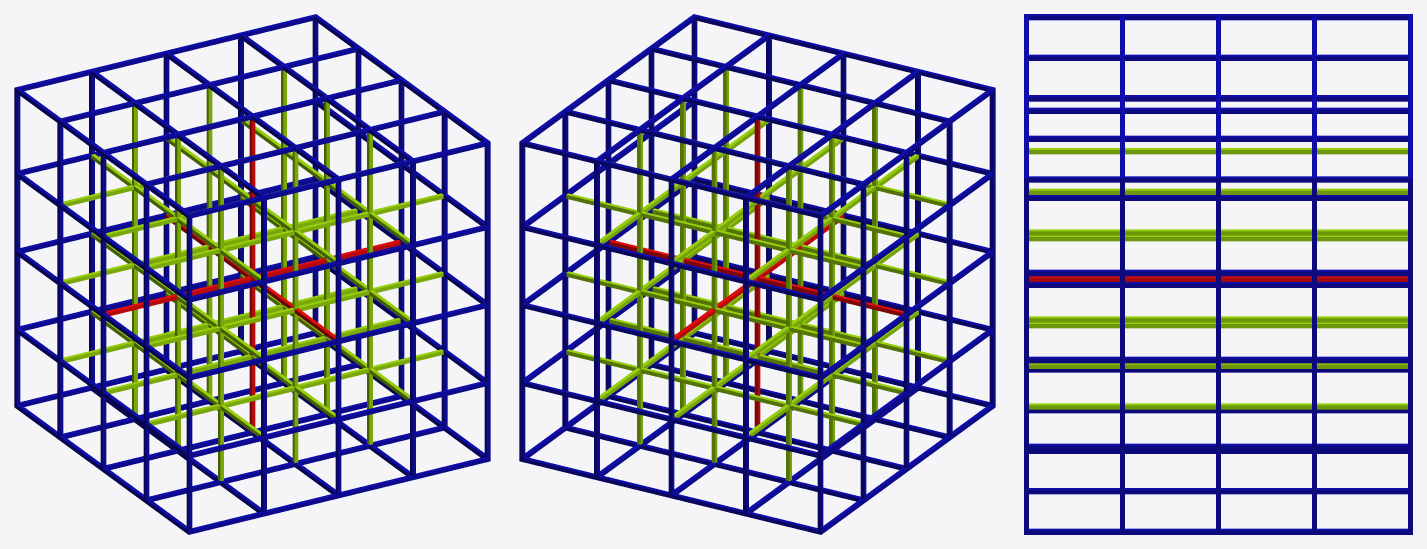
Rendered from cubo_4x4x4.FBX.
3 renders of one model, left to right at view 1: azimuth 30°, elevation 25°; view 2: azimuth 150°, elevation 25°; view 3: azimuth 270°, elevation 25°, orthographic. The views are drawn at different scales.
Visible parts, largest first — view 1: Box032, Box033, Box040, Box047, Box045, Box001, Box046, Box035, Box034, Box038, Box037, Box007 (+60 smaller); view 2: Box001, Box005, Box047, Box032, Box046, Box012, Box045, Box007, Box006, Box010, Box009, Box008 (+60 smaller); view 3: Box057, Box058, Box059, Box080, Box072, Box076, Box044, Box048, Box049, Box050, Box053, Box054 (+23 smaller).
Boxes of the visible parts, x1,y1,x2,y2 form: Box032: [186, 218, 192, 530]; Box033: [484, 145, 490, 458]; Box040: [335, 182, 341, 494]; Box047: [143, 186, 149, 499]; Box045: [57, 123, 63, 436]; Box001: [14, 92, 20, 404]; Box046: [100, 155, 106, 467]; Box035: [186, 140, 490, 218]; Box034: [186, 457, 490, 534]; Box038: [192, 225, 486, 301]; Box037: [192, 303, 486, 379]; Box007: [14, 14, 317, 92]; Box001: [817, 218, 823, 530]; Box005: [519, 145, 525, 458]; Box047: [946, 123, 952, 436]; Box032: [989, 92, 995, 404]; Box046: [903, 155, 909, 467]; Box012: [668, 182, 674, 494]; Box045: [860, 186, 866, 499]; Box007: [519, 140, 823, 218]; Box006: [519, 457, 823, 534]; Box010: [523, 225, 817, 301]; Box009: [523, 303, 817, 379]; Box008: [523, 381, 817, 457]; Box057: [1029, 443, 1407, 450]; Box058: [1029, 356, 1407, 363]; Box059: [1029, 269, 1407, 276]; Box080: [1029, 176, 1407, 182]; Box072: [1029, 528, 1407, 534]; Box076: [1029, 14, 1407, 20]; Box044: [1029, 107, 1407, 113]; Box048: [1029, 322, 1407, 328]; Box049: [1029, 235, 1407, 241]; Box050: [1029, 148, 1407, 154]; Box053: [1029, 188, 1407, 194]; Box054: [1029, 403, 1407, 409].
Bounding box in the file's own units: 81 × 82 × 81.
